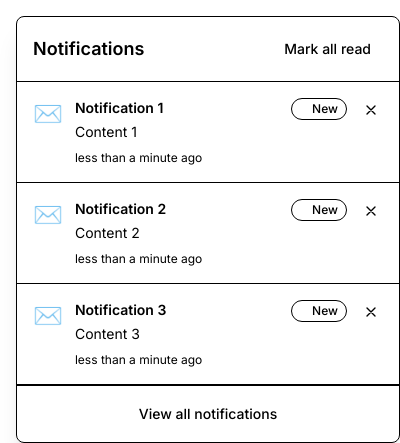
Test case: NotificationDropdown › shows loading state while marking all as read
(page scrolled)
Step 1. Click the button "Mark all read" → coordinates (328, 49), box x1=272 y1=33 x2=383 y2=65
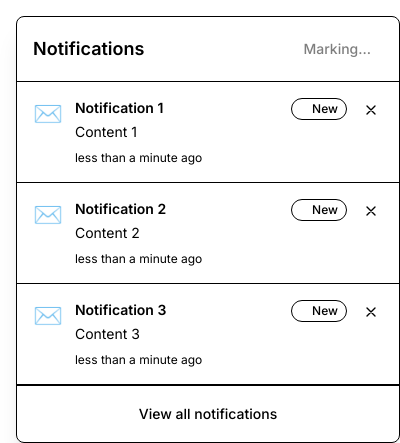
Now the button "Marking..." is shown, box x1=292 y1=33 x2=383 y2=65
